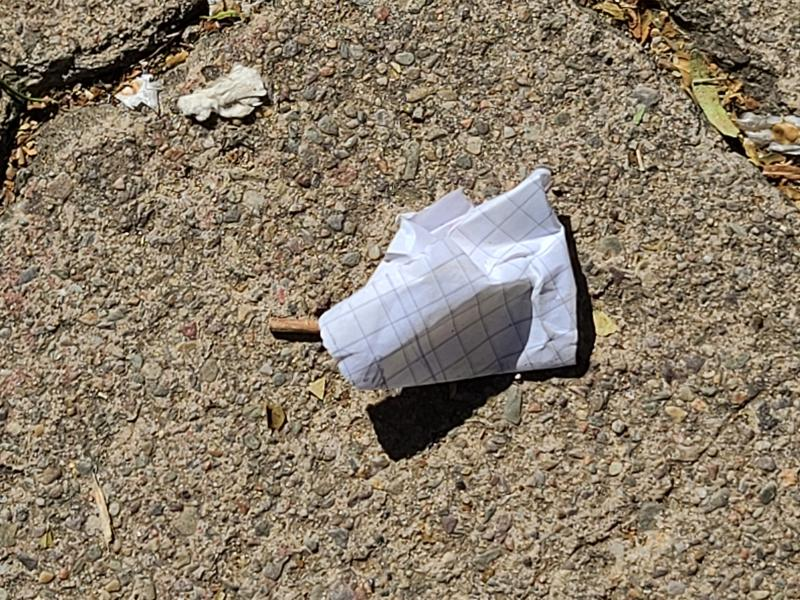papel: (316, 168, 579, 394)
